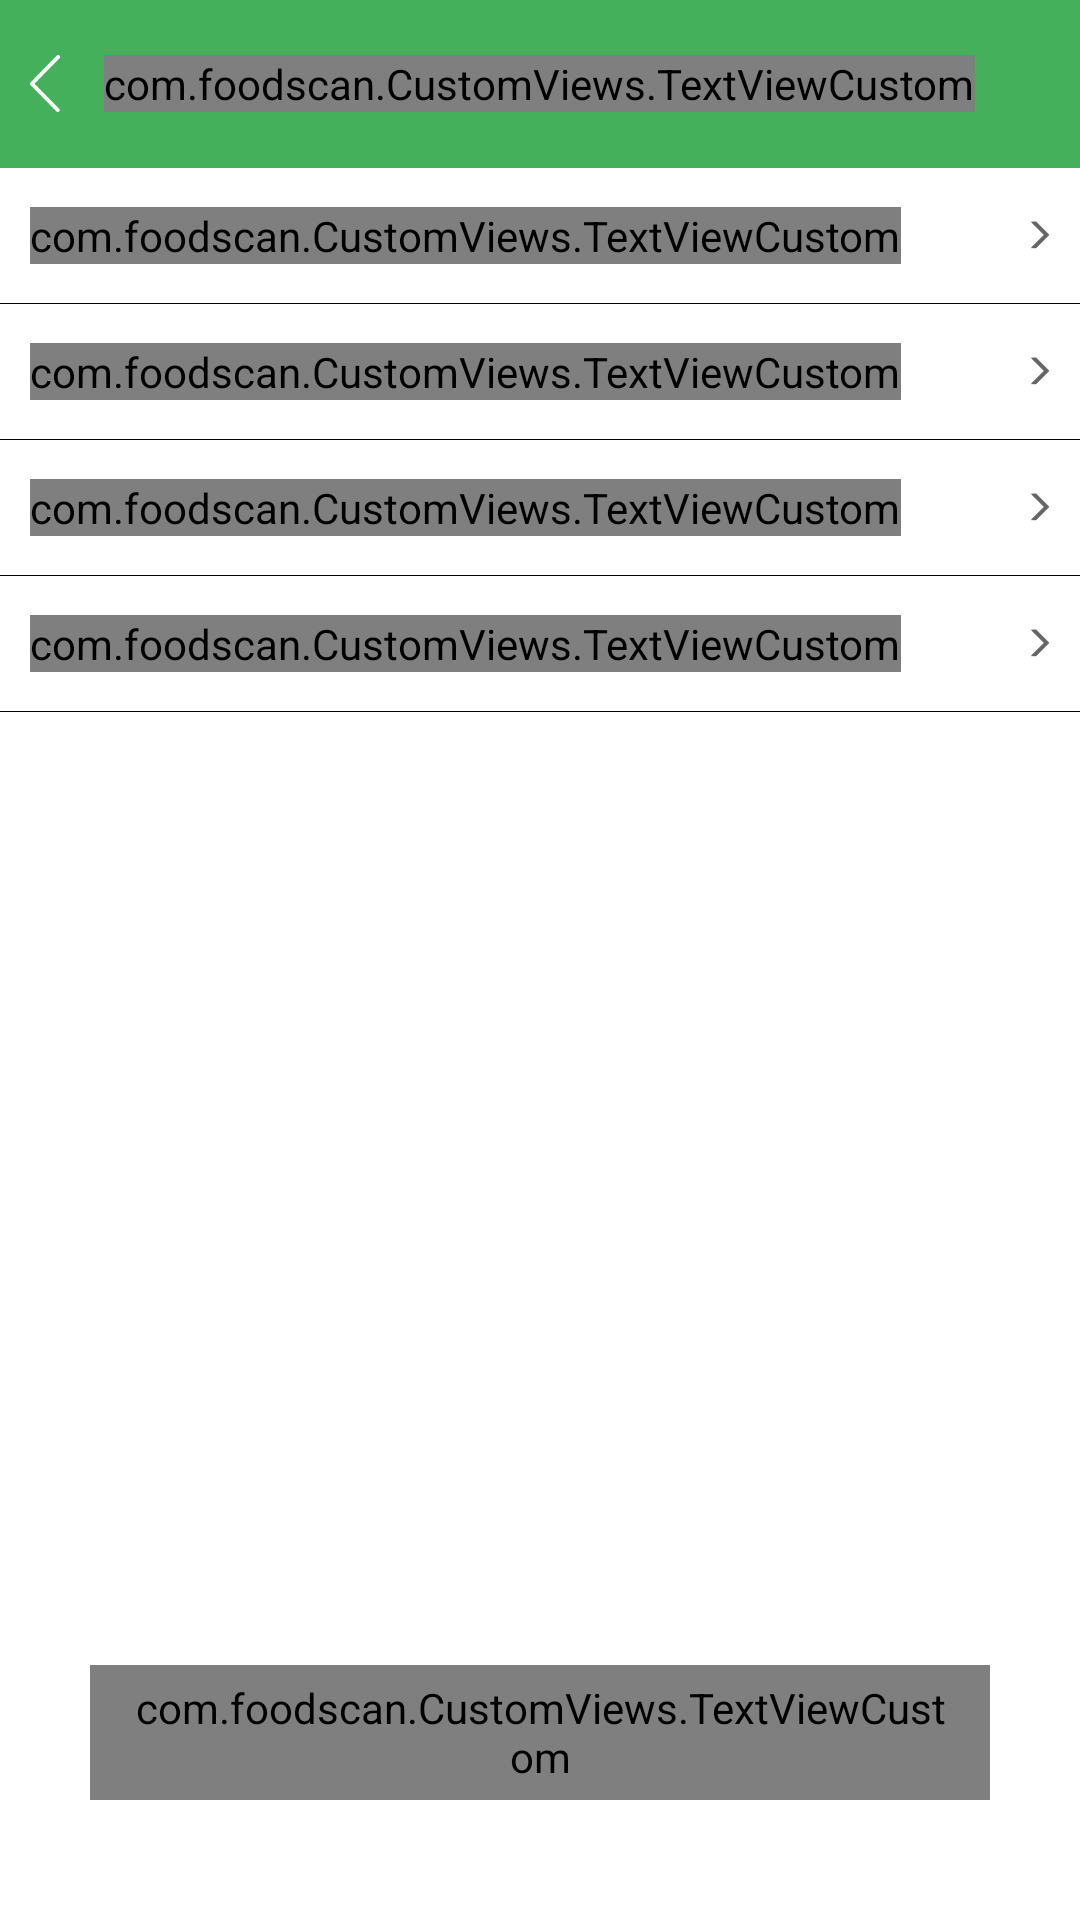

Where to tap for icons on this 1080*1920 app screen, as [x,y]:
back: [45,83]
